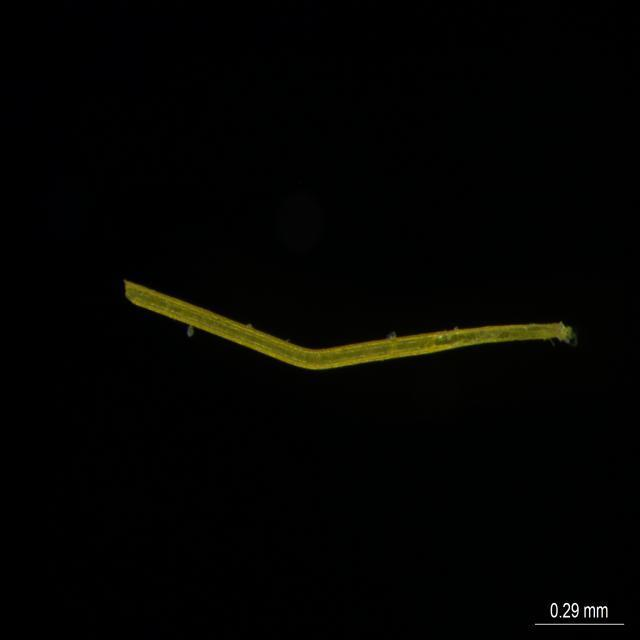fiber: (119, 267, 582, 373)
